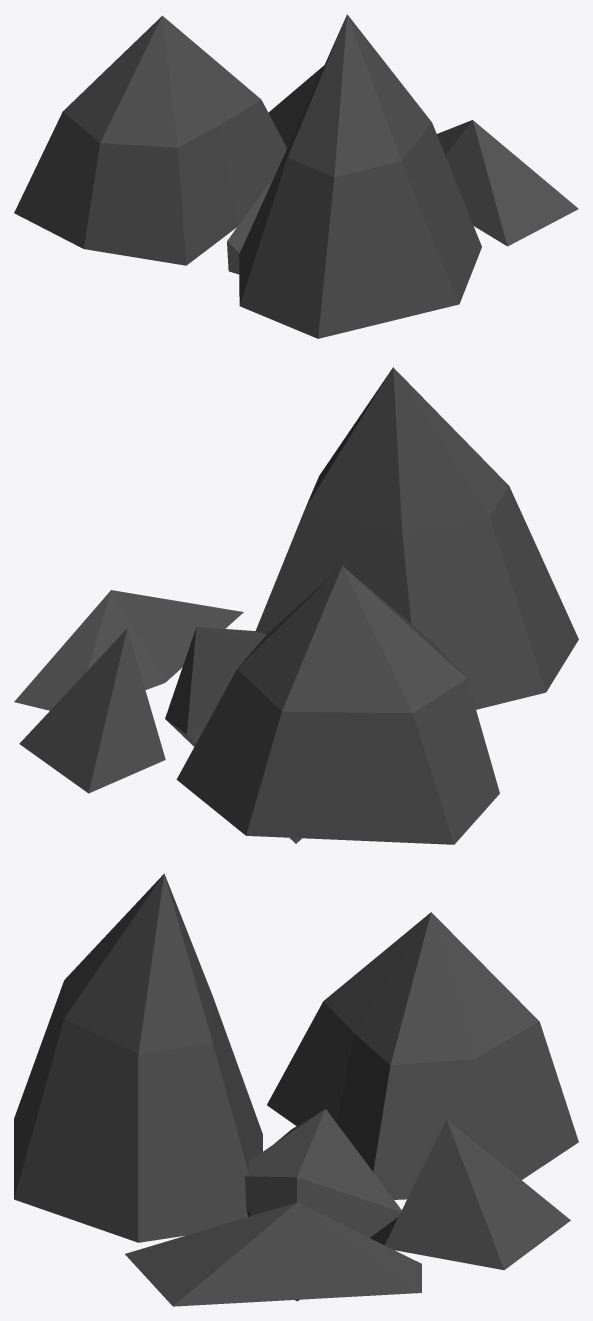
The model's file is Ores.fbx.
3 renders of one model, top to bottom at view 1: azimuth 30°, elevation 25°; view 2: azimuth 150°, elevation 25°; view 3: azimuth 270°, elevation 25°, orthographic. The views are drawn at different scales.
Parts seen in each view (by area): view 1: Rock, RockChunk; view 2: Rock, RockChunk; view 3: Rock, RockChunk.
Boxes of the visible parts, <box> form: Rock: <box>14,14,578,338</box>; RockChunk: <box>227,174,275,274</box>; Rock: <box>14,367,578,844</box>; RockChunk: <box>165,627,301,843</box>; Rock: <box>14,873,578,1306</box>; RockChunk: <box>245,1109,401,1301</box>.
Bounding box in the file's own units: 1.5 × 1.15 × 1.46.
